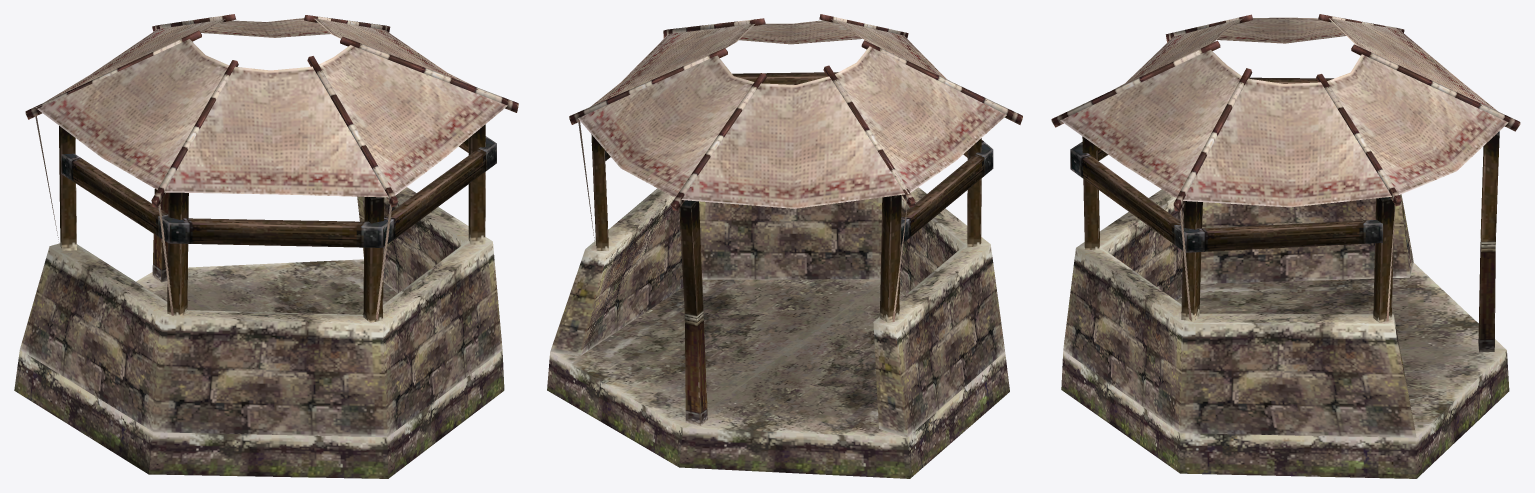
The model's file is OZ_22_wv_Tent01A.glb.
The picture shows the model from 3 angles, left to right: view 1: azimuth 30°, elevation 25°; view 2: azimuth 150°, elevation 25°; view 3: azimuth 270°, elevation 25°; orthographic projection. The views are drawn at different scales.
Parts seen in each view (by area): view 1: OM_22_wv_Tent01A; view 2: OM_22_wv_Tent01A; view 3: OM_22_wv_Tent01A.
Part boxes in pixels (x1,y1,x2,y2): OM_22_wv_Tent01A: (14,14,518,478); OM_22_wv_Tent01A: (547,14,1022,478); OM_22_wv_Tent01A: (1051,14,1520,478).
Bounding box in the file's own units: 4.95 × 4.5 × 5.46.
1 material, 1 textured.
